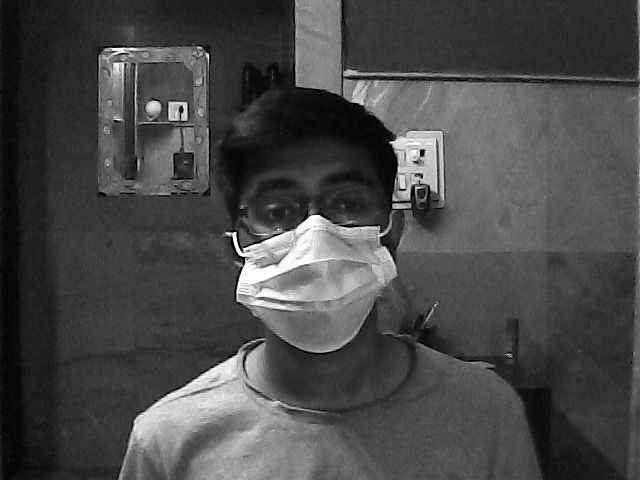mask: (231, 170, 405, 354)
